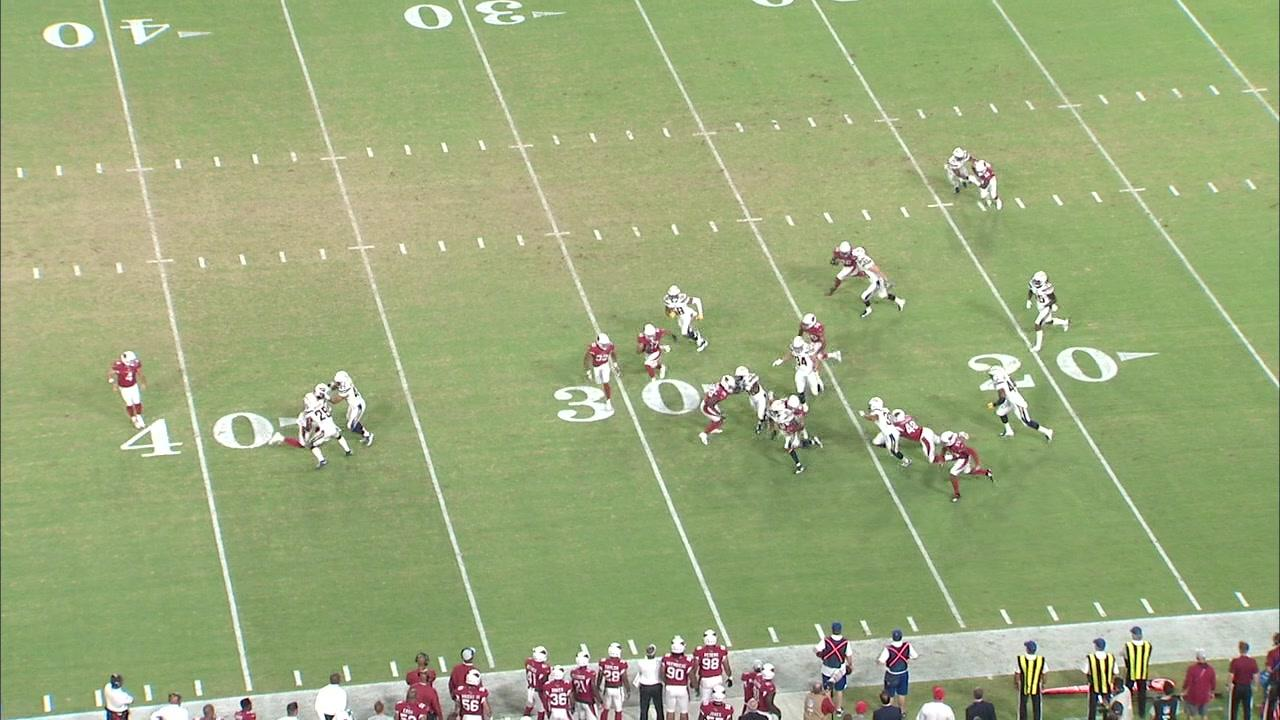five_hash: (732, 215, 765, 224), (124, 164, 156, 173), (344, 244, 379, 252), (318, 154, 349, 163), (1116, 187, 1149, 195), (146, 257, 175, 266), (1239, 87, 1271, 95), (544, 229, 572, 238), (925, 201, 955, 209), (691, 130, 720, 138), (871, 117, 902, 124), (506, 142, 536, 149), (1056, 103, 1086, 110)
hash: (628, 223, 646, 241), (28, 265, 45, 283), (13, 164, 29, 183), (273, 247, 289, 266), (1021, 97, 1038, 114), (819, 209, 836, 226), (433, 238, 450, 255), (1242, 177, 1260, 193), (1205, 179, 1221, 197), (210, 152, 224, 172), (362, 144, 379, 160), (622, 127, 638, 144), (897, 204, 913, 221), (782, 212, 798, 229), (235, 251, 251, 268), (248, 149, 263, 167), (1169, 86, 1187, 101), (1011, 196, 1029, 211), (195, 254, 210, 272), (171, 155, 187, 171), (548, 132, 564, 148), (986, 100, 1002, 116), (1096, 91, 1112, 107), (1089, 190, 1105, 206), (1050, 192, 1066, 208), (400, 141, 415, 158), (914, 107, 931, 122), (1166, 184, 1183, 199), (113, 260, 128, 277), (53, 162, 66, 181), (1134, 89, 1150, 104), (590, 227, 605, 243), (317, 246, 332, 262), (93, 161, 107, 178), (949, 105, 966, 119), (707, 218, 721, 235), (474, 234, 488, 251), (859, 208, 874, 223), (439, 140, 453, 156), (475, 137, 489, 153), (586, 130, 600, 146), (659, 126, 675, 140), (768, 119, 784, 133), (514, 232, 528, 248), (70, 264, 86, 278), (668, 221, 681, 238), (733, 120, 747, 135), (843, 112, 857, 127), (1207, 84, 1222, 98), (397, 242, 411, 257), (804, 115, 818, 129), (288, 150, 301, 163)
number: (117, 411, 279, 458), (36, 15, 173, 52), (402, 0, 534, 37)
